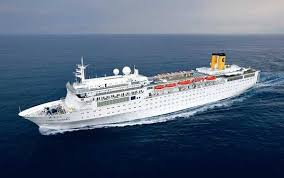tau_dansu: (16, 61, 257, 118)
